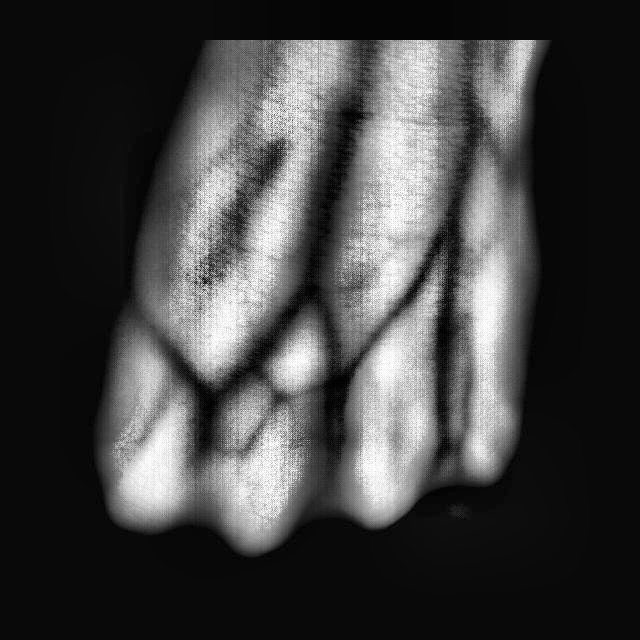Vein: (270, 112, 374, 332)
